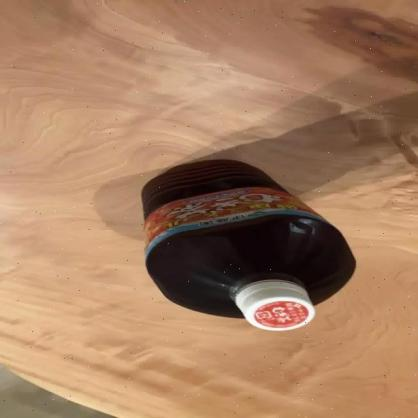bottle: (140, 158, 358, 331)
cap: (235, 278, 316, 332)
label: (136, 185, 334, 225)
